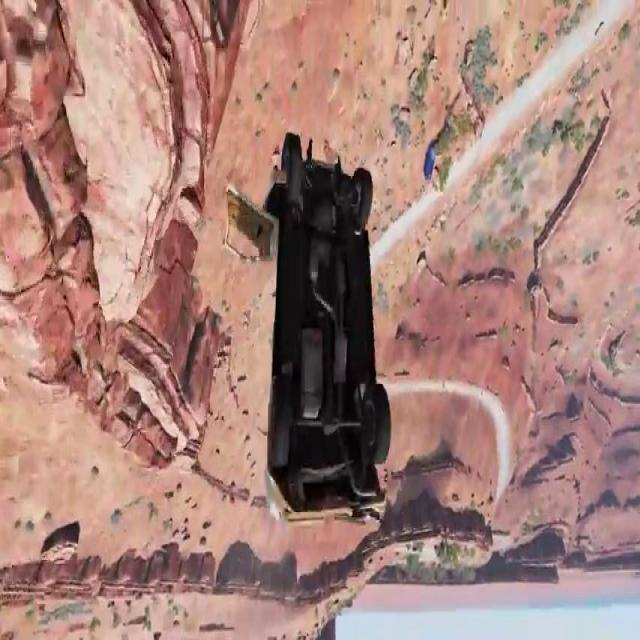severe: (222, 128, 396, 548)
